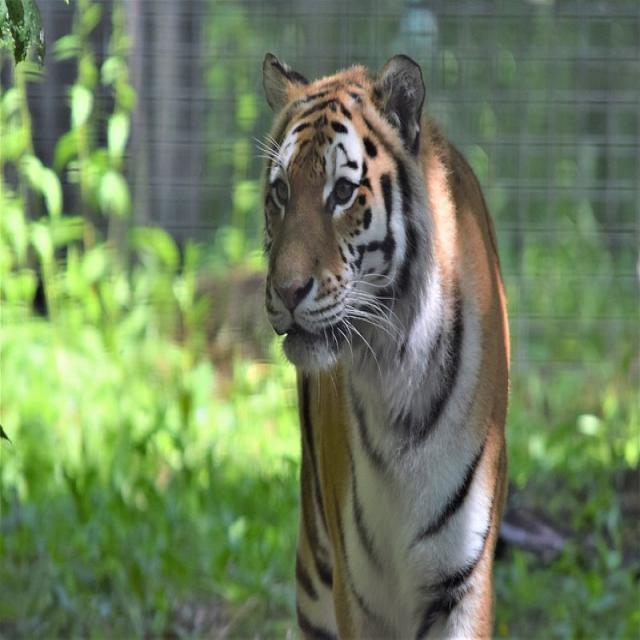Tiger: (258, 49, 511, 639)
